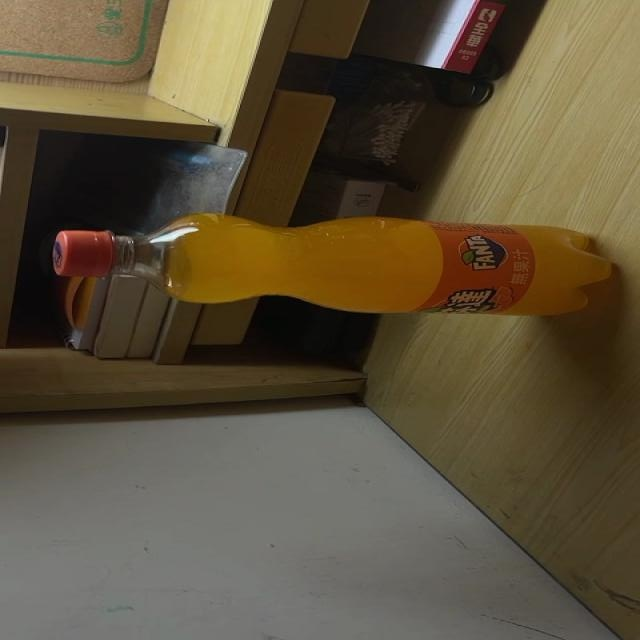Fanta: (50, 212, 615, 314)
